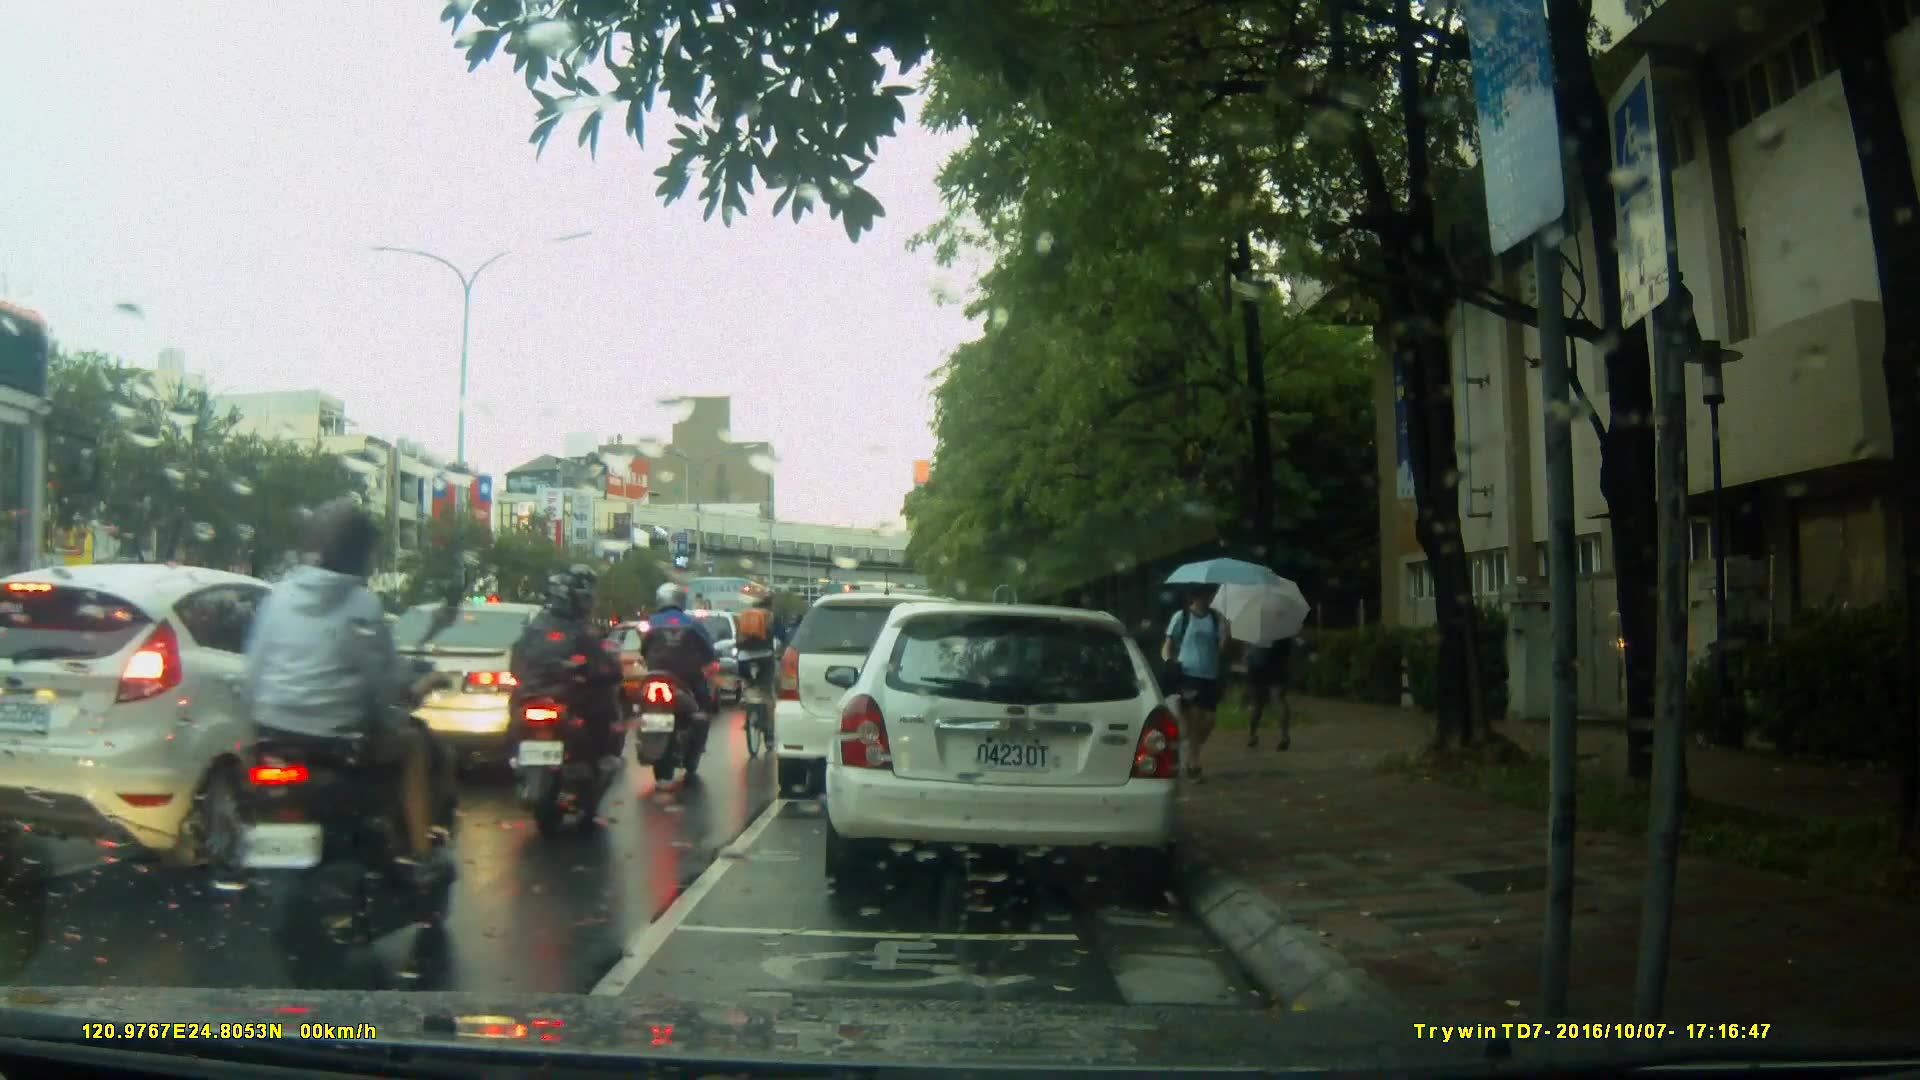pedestrian: (1168, 562, 1240, 798), (1254, 589, 1302, 751)
rider: (227, 489, 447, 979), (530, 569, 635, 842), (637, 581, 729, 791), (745, 585, 798, 768)
vehicle: (1, 558, 410, 896), (835, 594, 1194, 898), (335, 592, 591, 793), (776, 590, 1026, 784), (598, 620, 725, 721), (676, 574, 795, 672)
